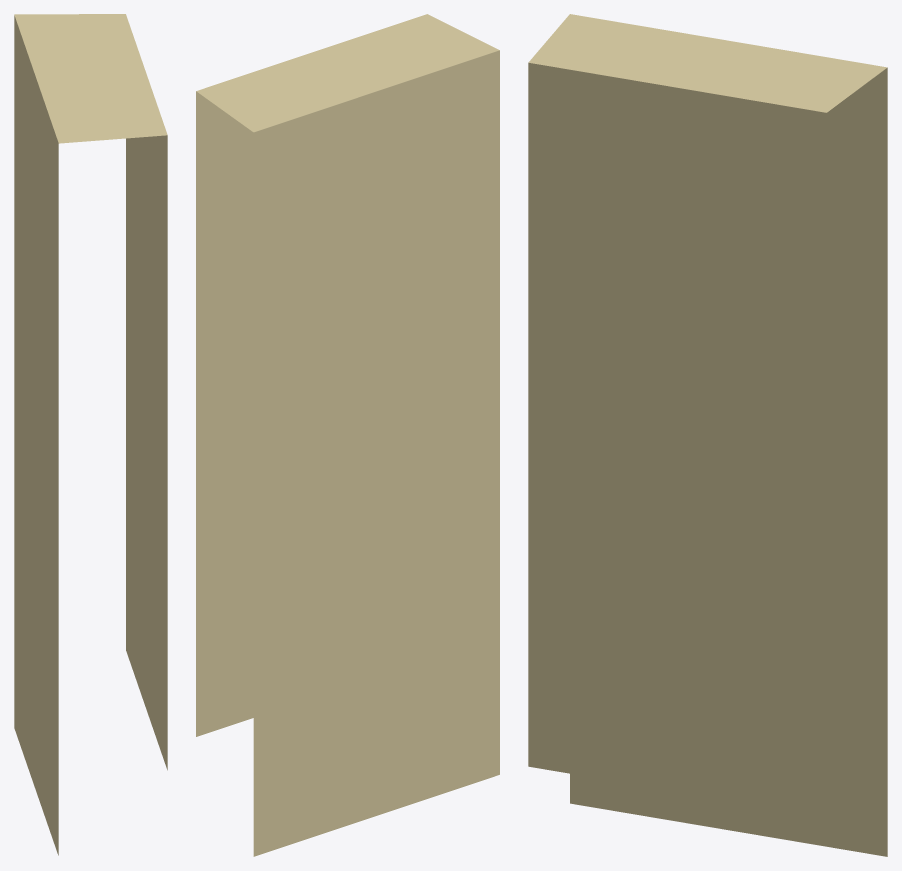
Rendered from wall13.fbx.
3 views of the same model, side by side, from view 1: azimuth 30°, elevation 25°; view 2: azimuth 150°, elevation 25°; view 3: azimuth 270°, elevation 25° (orthographic). The views are drawn at different scales.
Parts seen in each view (by area): view 1: duvar.024; view 2: duvar.024; view 3: duvar.024.
Boxes of the visible parts, x1,y1,x2,y2 form: duvar.024: (14,14,167,855); duvar.024: (196,14,499,856); duvar.024: (528,14,887,856).
Size of the model in its own units: 12.09 by 44.99 by 18.56.
